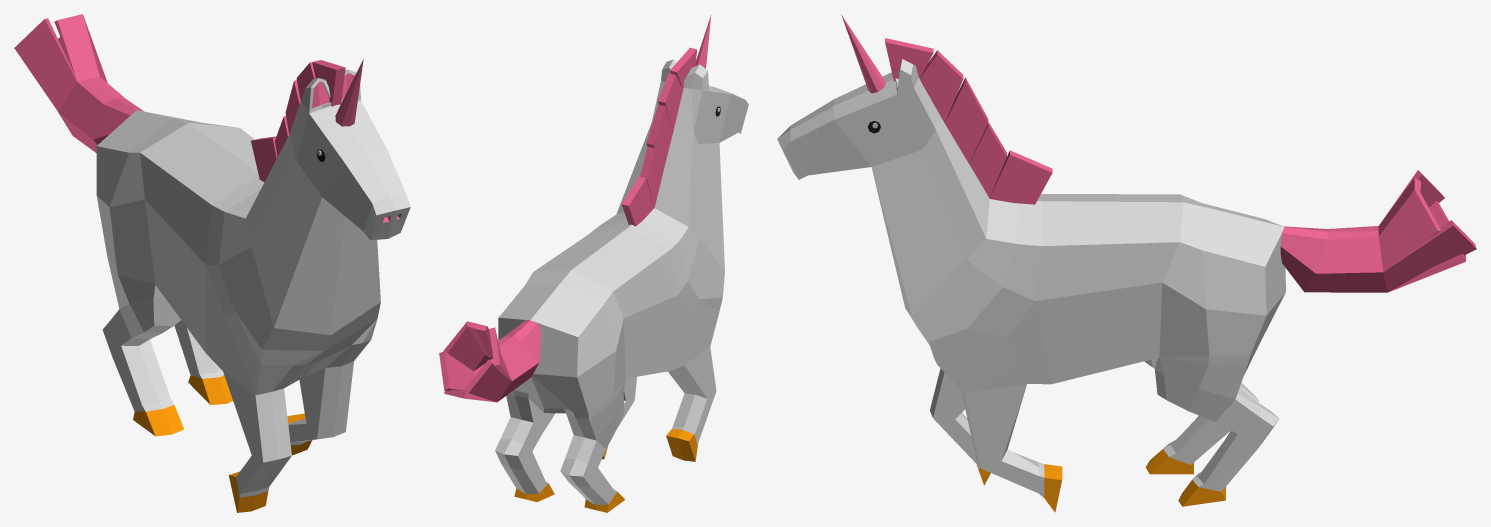
File: community_unicorn.glb
The picture shows the model from 3 angles, left to right: view 1: azimuth 30°, elevation 25°; view 2: azimuth 150°, elevation 25°; view 3: azimuth 270°, elevation 25°; orthographic projection. The views are drawn at different scales.
Visible parts, largest first — view 1: Unicorn_01_Cube.028_Cube.030; view 2: Unicorn_01_Cube.028_Cube.030; view 3: Unicorn_01_Cube.028_Cube.030.
Part boxes in pixels (box(x1,y1,x2,y2)): Unicorn_01_Cube.028_Cube.030: box(14, 14, 410, 512); Unicorn_01_Cube.028_Cube.030: box(439, 15, 748, 512); Unicorn_01_Cube.028_Cube.030: box(777, 14, 1476, 512).
Bounding box in the file's own units: 6.94 × 24.43 × 31.9.
